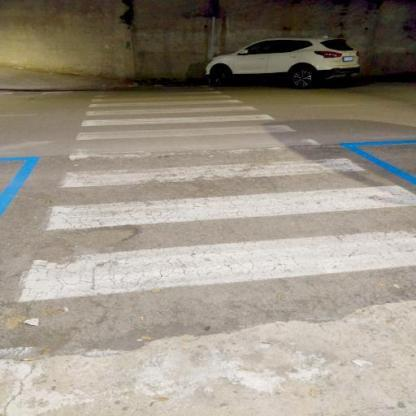crosswalk: (42, 154, 415, 235), (80, 104, 281, 128)
